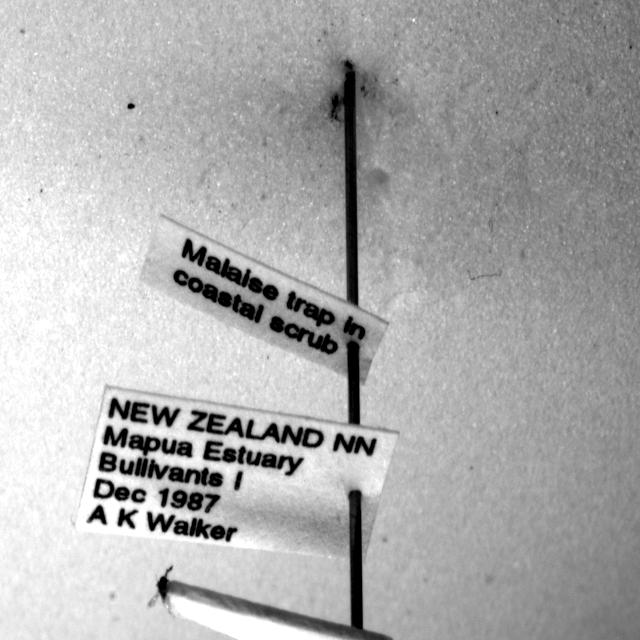typed_label: (76, 386, 398, 559), (142, 216, 388, 382)
